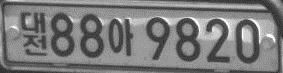0: (234, 18, 259, 64)
2: (205, 18, 230, 63)
8: (175, 16, 201, 62), (49, 11, 74, 57), (79, 13, 104, 58)
9: (145, 16, 171, 61)
대전_V: (20, 11, 47, 56)
아: (107, 18, 133, 56)
